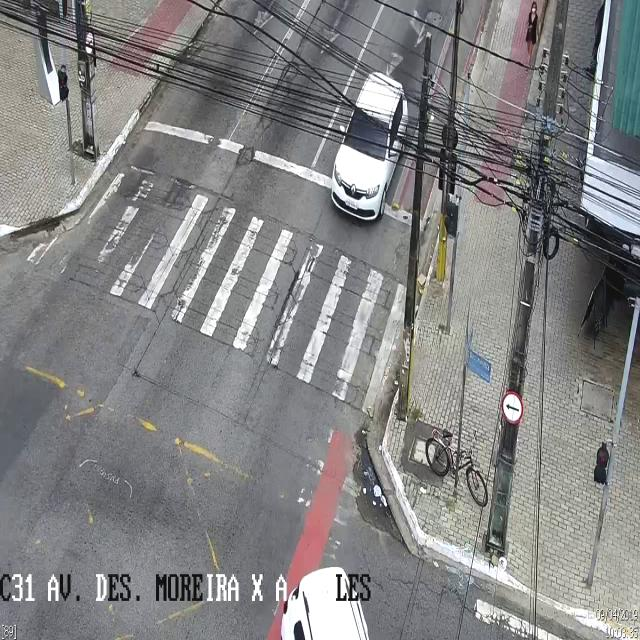Car: (256, 555, 398, 640), (331, 68, 408, 220)
